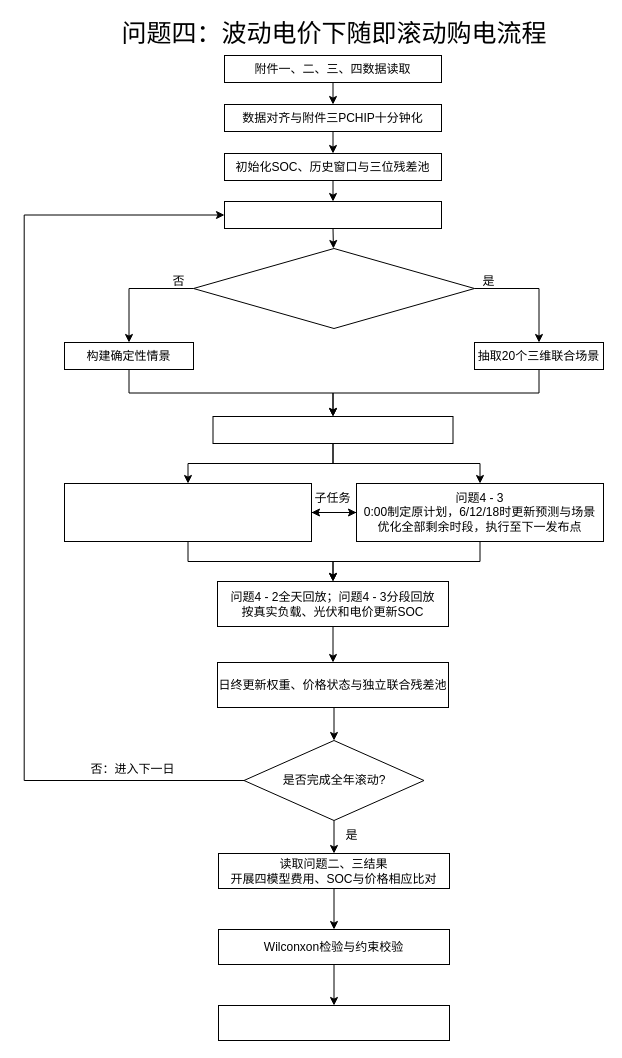
Image size: 622x1058. Some labels were removed from this diagram. The shapes that lost their labels are listed below. From the top down, each one's box as (x1, y1, x2, y2) in pixels, then its label:
(224, 200, 442, 228): 生成因果负载、光伏与电价预测
(192, 248, 474, 328): 对应子问题及发布时间的有效三维联合残差是否可用？
(212, 416, 453, 444): 进入对应的两阶段随机线性规划+CVaR模型
(64, 482, 312, 542): 问题4 - 2 0:00优化全天计划购电量 全天固定执行、不再调整
(218, 1004, 450, 1040): 结果输出
